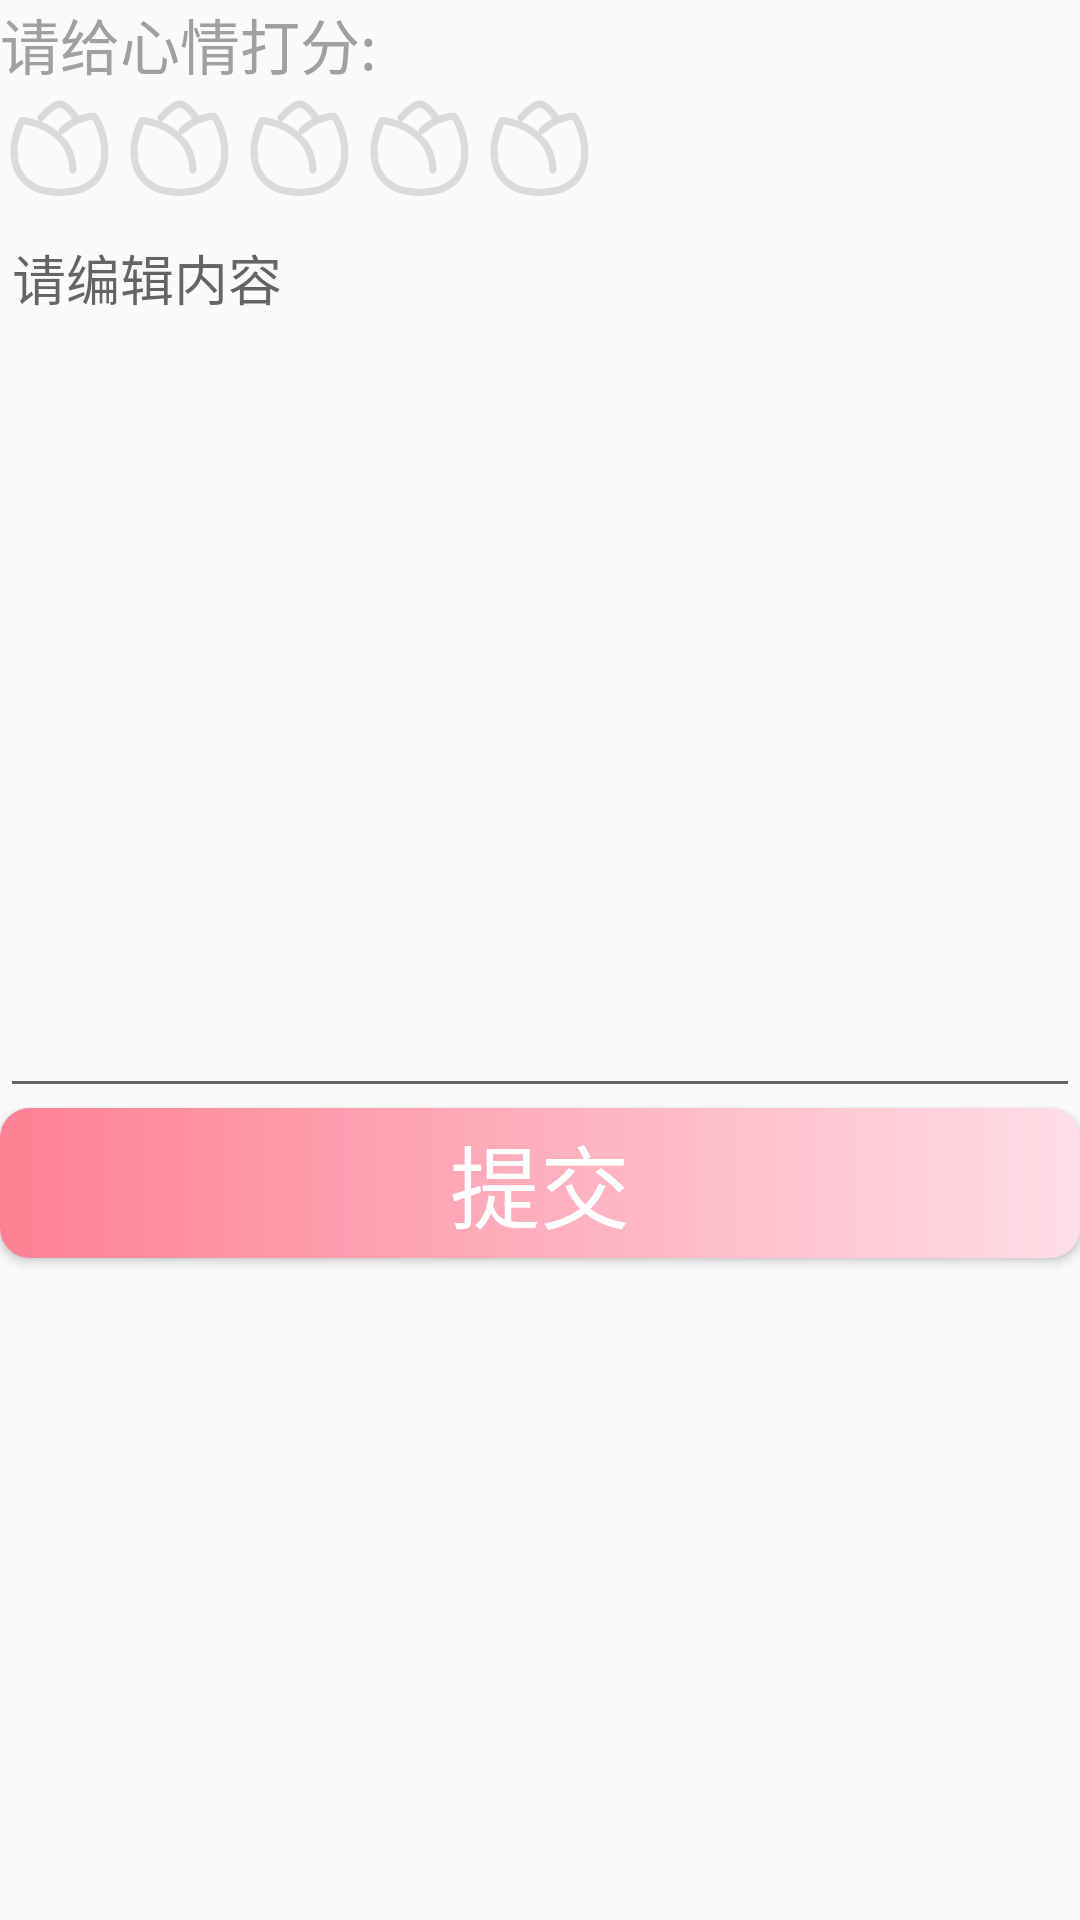

Screen size 1080×1920. Icon name, then its center in pixels as point (x, y):
change flower: point (59, 148), point (179, 148), point (299, 148), point (419, 148), point (539, 148)
